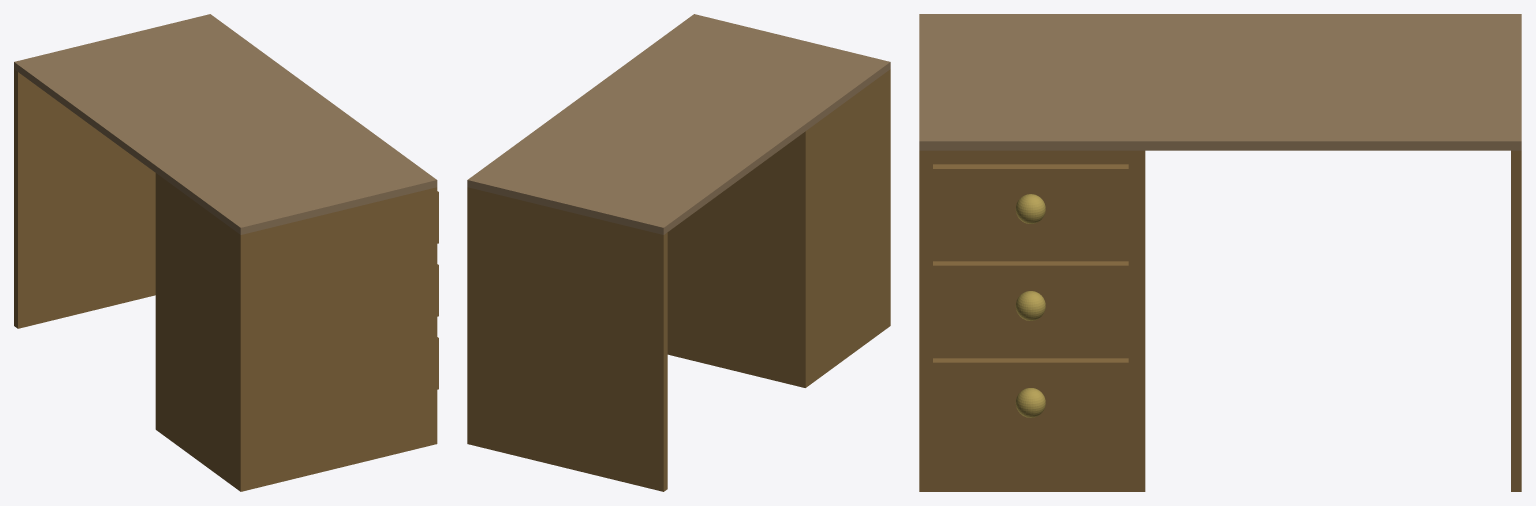
3 renders of one model, left to right at view 1: azimuth 30°, elevation 25°; view 2: azimuth 150°, elevation 25°; view 3: azimuth 270°, elevation 25°, orthographic. The views are drawn at different scales.
Parts seen in each view (by area): view 1: Mesh_Mesh_head_geo.001_lambert2SG.001; view 2: Mesh_Mesh_head_geo.001_lambert2SG.001; view 3: Mesh_Mesh_head_geo.001_lambert2SG.001.
Part boxes in pixels (left/top/right/bottom): Mesh_Mesh_head_geo.001_lambert2SG.001: left=14, top=14, right=438, bottom=491; Mesh_Mesh_head_geo.001_lambert2SG.001: left=467, top=14, right=890, bottom=491; Mesh_Mesh_head_geo.001_lambert2SG.001: left=919, top=14, right=1521, bottom=491.
Size of the model in its own units: 22.65 by 25.7 by 40.
